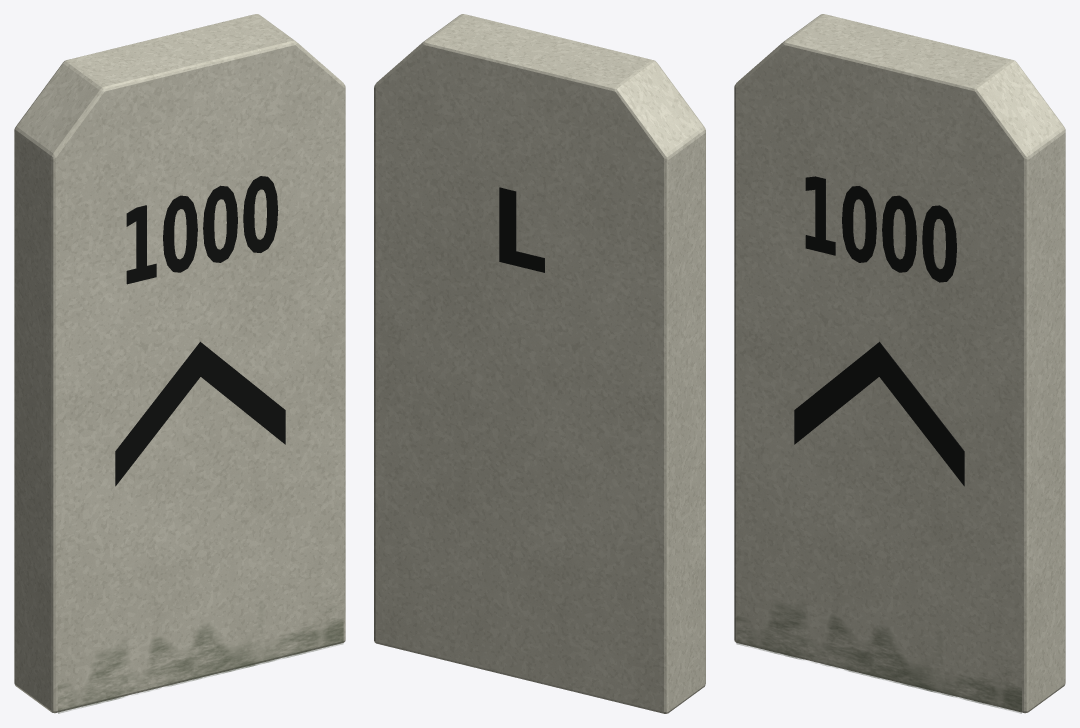
The picture shows the model from 3 angles, left to right: view 1: azimuth 30°, elevation 25°; view 2: azimuth 150°, elevation 25°; view 3: azimuth 330°, elevation 25°; orthographic projection.
Parts seen in each view (by area): view 1: TF3_KR_R09; view 2: TF3_KR_R09; view 3: TF3_KR_R09.
Part boxes in pixels (x1,y1,x2,y2): TF3_KR_R09: (14,14,345,713); TF3_KR_R09: (374,14,705,713); TF3_KR_R09: (734,14,1065,713).
Bounding box in the file's own units: 0.381 × 0.76 × 0.0932.
Materials: 3 (2 with a texture image).
